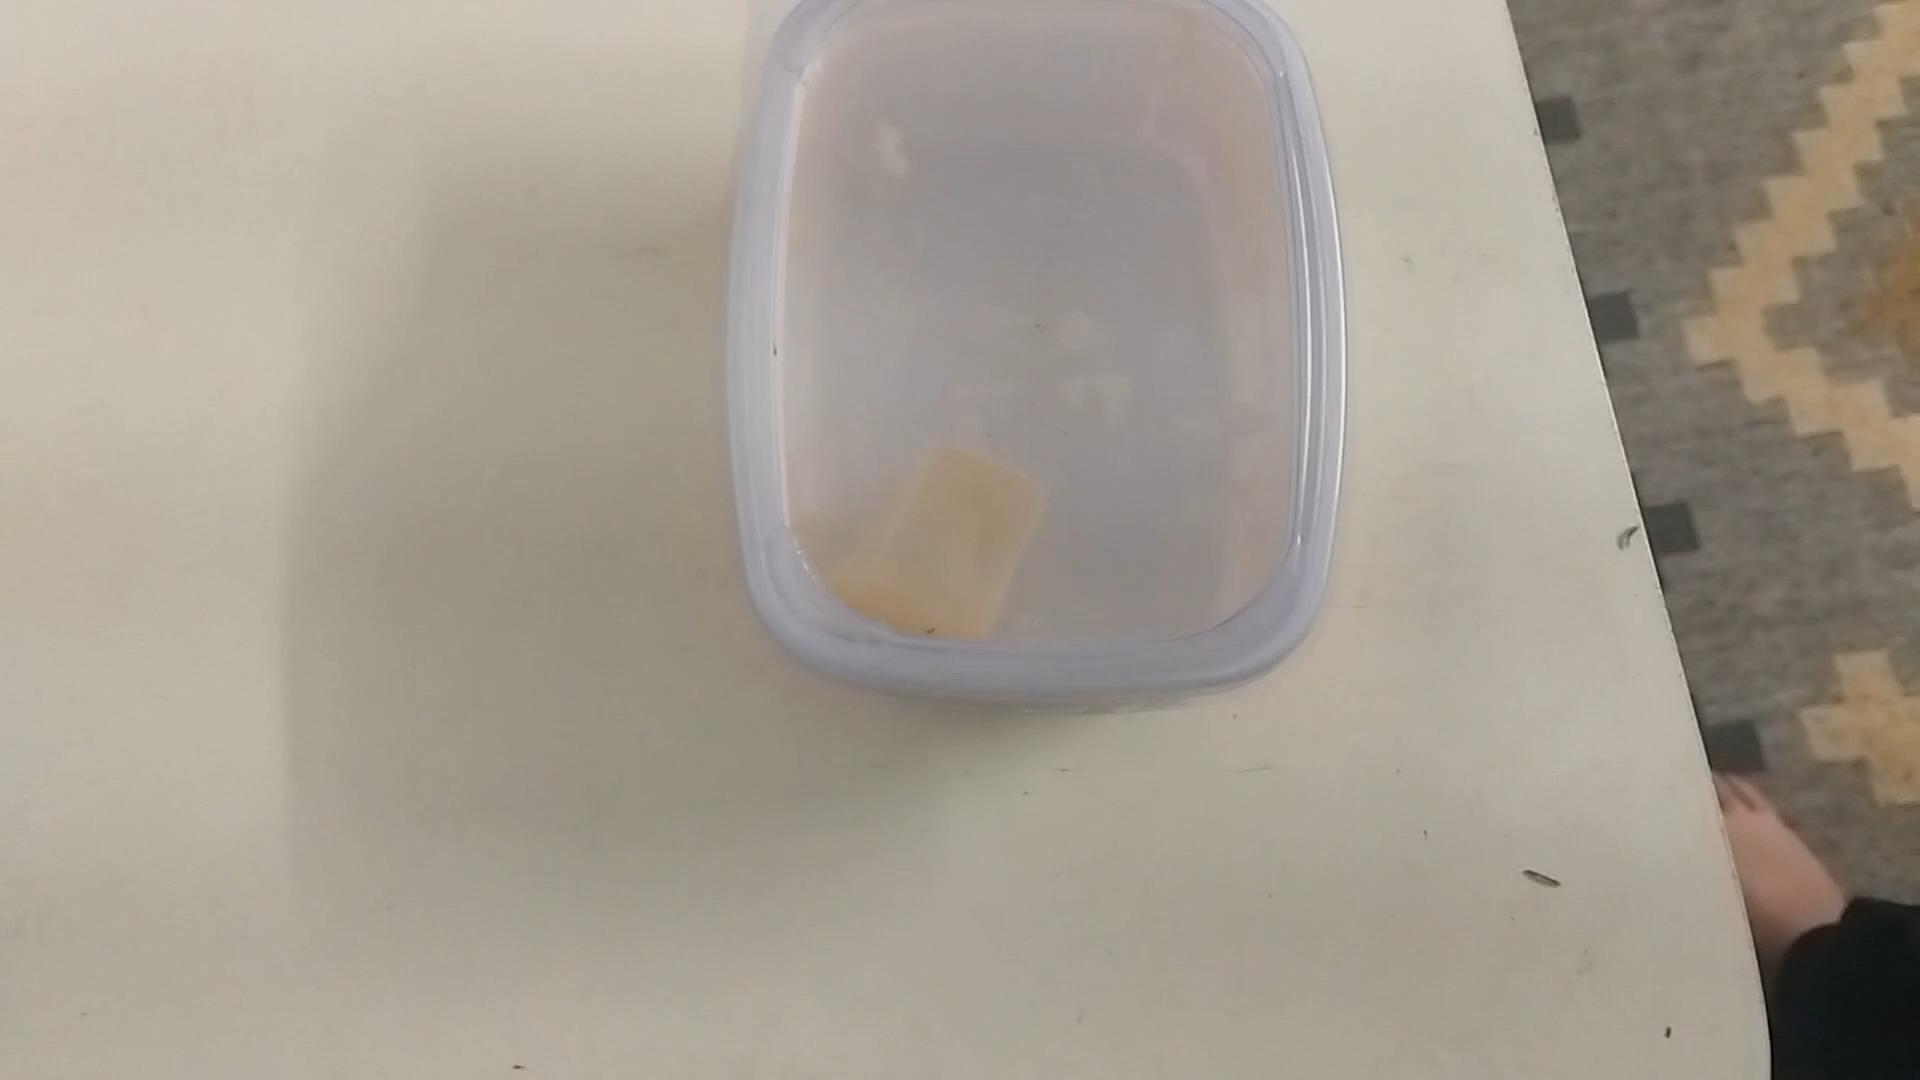butter: (729, 0, 1354, 704)
